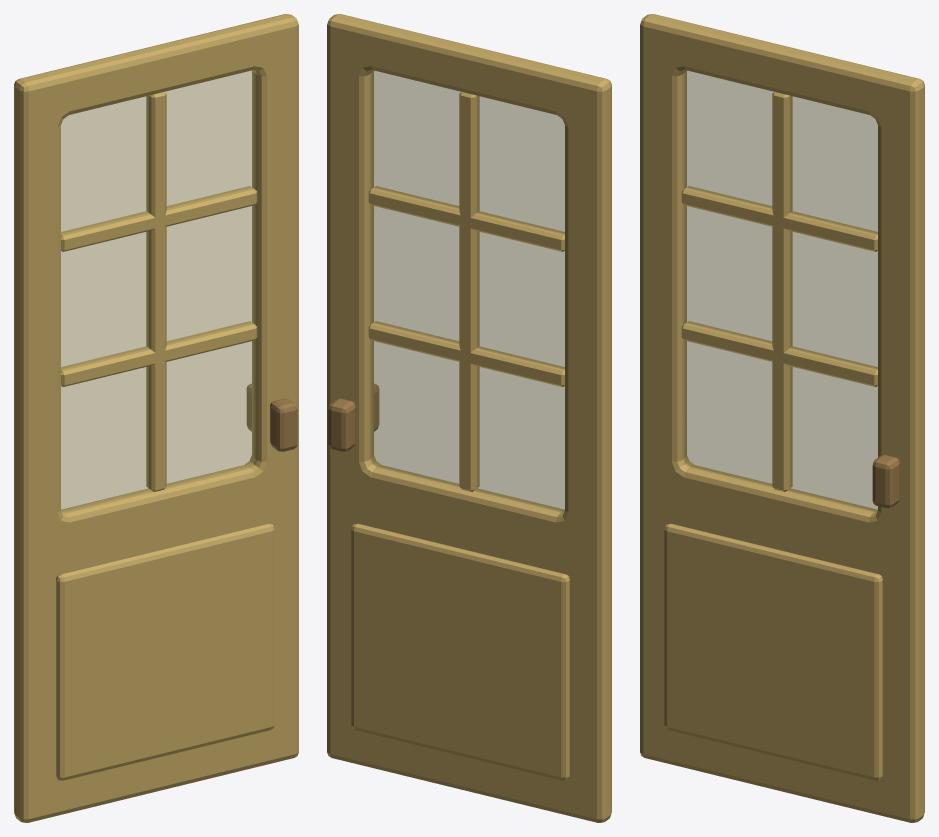
Rendered from SM_Kit_Door_Glass.glb.
3 renders of one model, left to right at view 1: azimuth 30°, elevation 25°; view 2: azimuth 150°, elevation 25°; view 3: azimuth 330°, elevation 25°, orthographic.
Parts seen in each view (by area): view 1: SM_Kit_Door_Glass; view 2: SM_Kit_Door_Glass; view 3: SM_Kit_Door_Glass.
Part boxes in pixels (box(x1,y1,x2,y2)): SM_Kit_Door_Glass: box(14, 14, 298, 822); SM_Kit_Door_Glass: box(327, 14, 611, 822); SM_Kit_Door_Glass: box(640, 14, 924, 822).
Size of the model in its own units: 0.82 by 2.08 by 0.18.
